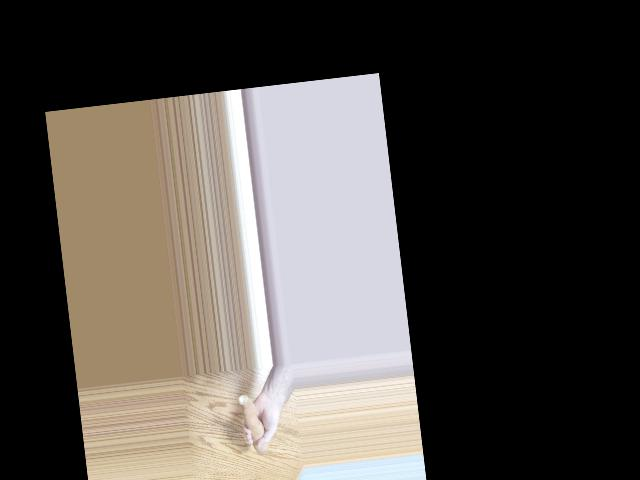sweet_potato: (239, 387, 271, 450)
